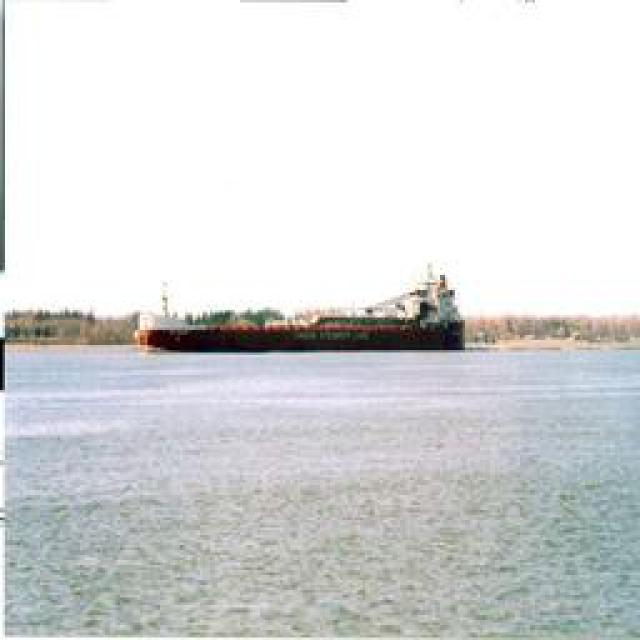Ship: (137, 266, 467, 359)
